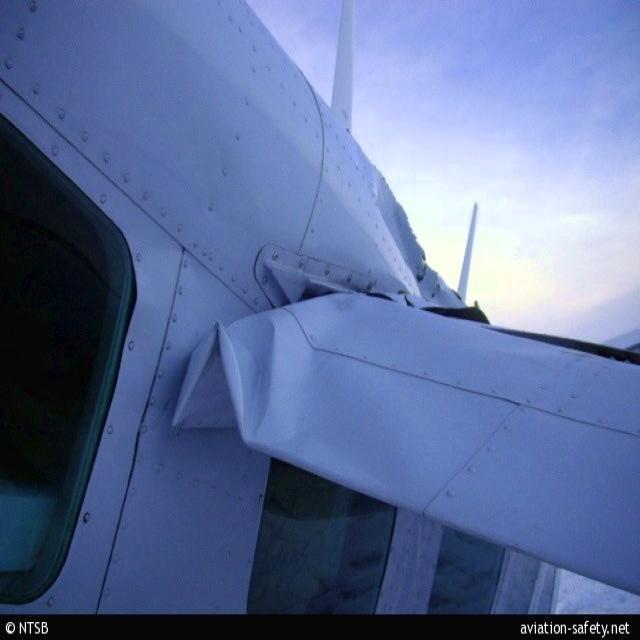dent: (162, 315, 283, 453)
